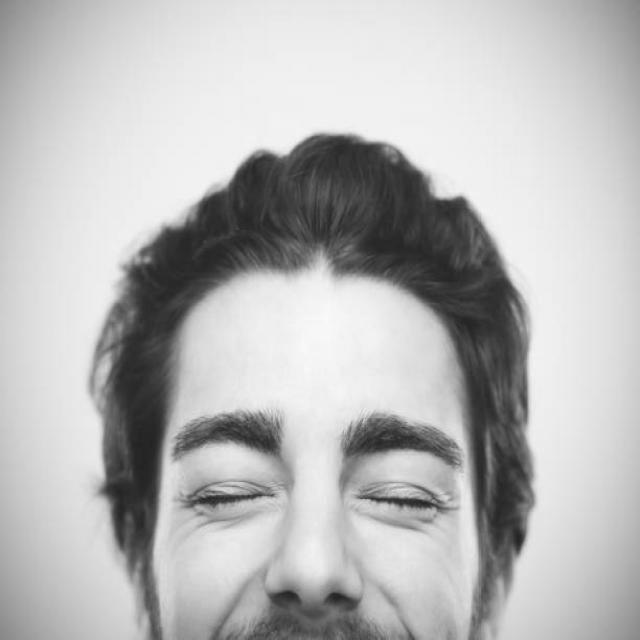real: (115, 238, 535, 640), (160, 404, 472, 536)
